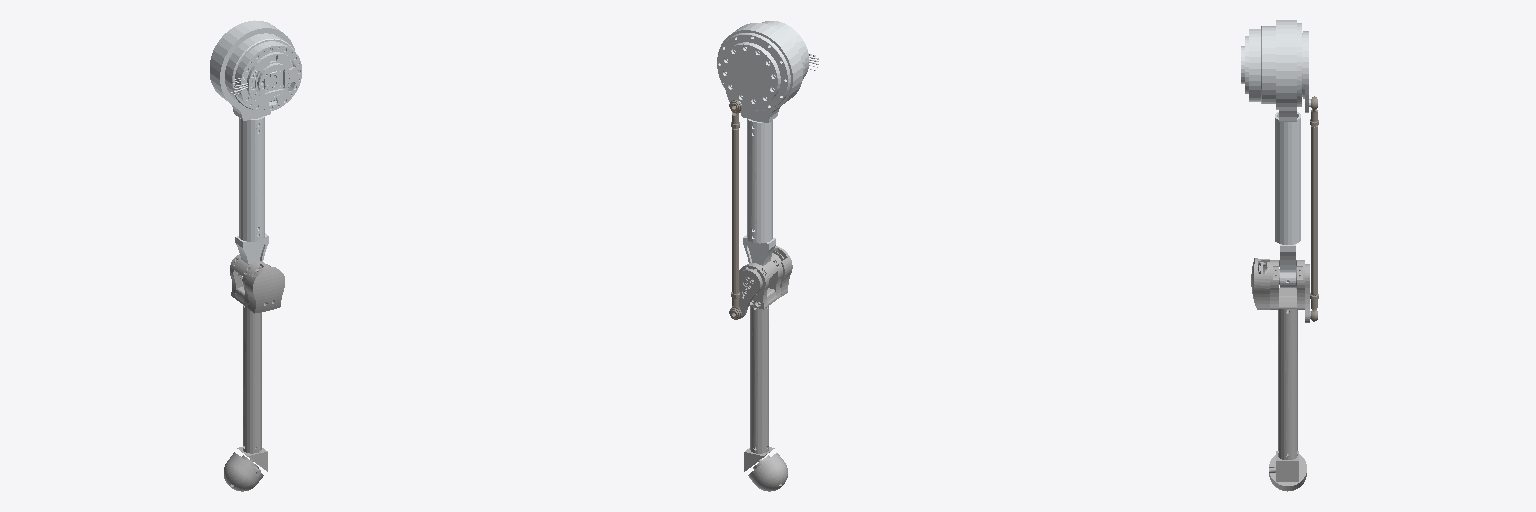
URDF robot description (PONGBOT_LEG):
<robot
  name="PONGBOT_LEG">
  <link
    name="thigh">
    <inertial>
      <origin
        xyz="0 -0.0162 -0.0264"
        rpy="0 0 0" />
      <mass
        value="1.8748" />
      <inertia
        ixx="0.0112"
        ixy="0"
        ixz="0"
        iyy="0.0117"
        iyz="-0.0008"
        izz="0.0017" />
    </inertial>
    <visual>
      <origin
        xyz="0 0 0"
        rpy="0 0 0" />
      <geometry>
        <mesh
          filename="package://PONGBOT_LEG/meshes/thigh.STL" />
      </geometry>
      <material
        name="">
        <color
          rgba="0.89804 0.91765 0.92941 1" />
      </material>
    </visual>
    <collision>
      <origin
        xyz="0 0 0"
        rpy="0 0 0" />
      <geometry>
        <mesh
          filename="package://PONGBOT_LEG/meshes/thigh.STL" />
      </geometry>
    </collision>
  </link>
  <link
    name="rotator1">
    <inertial>
      <origin
        xyz="0.0021 -0.0028 -0.0058"
        rpy="0 0 0" />
      <mass
        value="0.072" />
      <inertia
        ixx="0.0001"
        ixy="0"
        ixz="0"
        iyy="0.0001"
        iyz="0"
        izz="0" />
    </inertial>
    <visual>
      <origin
        xyz="0 0 0"
        rpy="0 0 0" />
      <geometry>
        <mesh
          filename="package://PONGBOT_LEG/meshes/rotator1.STL" />
      </geometry>
      <material
        name="">
        <color
          rgba="0.89804 0.91765 0.92941 1" />
      </material>
    </visual>
    <collision>
      <origin
        xyz="0 0 0"
        rpy="0 0 0" />
      <geometry>
        <mesh
          filename="package://PONGBOT_LEG/meshes/rotator1.STL" />
      </geometry>
    </collision>
  </link>
  <joint
    name="rotator1_joint"
    type="continuous">
    <origin
      xyz="0 0.02765 0"
      rpy="0 -1.1221E-46 0" />
    <parent
      link="thigh" />
    <child
      link="rotator1" />
    <axis
      xyz="0 1 0" />
  </joint>
  <link
    name="rotator2">
    <inertial>
      <origin
        xyz="0 0 -0.1525"
        rpy="0 0 0" />
      <mass
        value="0.2047" />
      <inertia
        ixx="0.0018"
        ixy="0"
        ixz="0"
        iyy="0.0018"
        iyz="0"
        izz="0" />
    </inertial>
    <visual>
      <origin
        xyz="0 0 0"
        rpy="0 0 0" />
      <geometry>
        <mesh
          filename="package://PONGBOT_LEG/meshes/rotator2.STL" />
      </geometry>
      <material
        name="">
        <color
          rgba="0.64706 0.61961 0.58824 1" />
      </material>
    </visual>
    <collision>
      <origin
        xyz="0 0 0"
        rpy="0 0 0" />
      <geometry>
        <mesh
          filename="package://PONGBOT_LEG/meshes/rotator2.STL" />
      </geometry>
    </collision>
  </link>
  <joint
    name="rotator2_joint"
    type="continuous">
    <origin
      xyz="0.017101 0.00685 -0.046985"
      rpy="0 -1.1221E-46 0" />
    <parent
      link="rotator1" />
    <child
      link="rotator2" />
    <axis
      xyz="0 1 0" />
  </joint>
  <link
    name="rotator3">
    <inertial>
      <origin
        xyz="-0.0183 -0.0326 -0.0427"
        rpy="0 0 0" />
      <mass
        value="0.402" />
      <inertia
        ixx="0.0052"
        ixy="0"
        ixz="0.0002"
        iyy="0.0051"
        iyz="0"
        izz="0.0002" />
    </inertial>
    <visual>
      <origin
        xyz="0 0 0"
        rpy="0 0 0" />
      <geometry>
        <mesh
          filename="package://PONGBOT_LEG/meshes/rotator3.STL" />
      </geometry>
      <material
        name="">
        <color
          rgba="0.75294 0.75294 0.75294 1" />
      </material>
    </visual>
    <collision>
      <origin
        xyz="0 0 0"
        rpy="0 0 0" />
      <geometry>
        <mesh
          filename="package://PONGBOT_LEG/meshes/rotator3.STL" />
      </geometry>
    </collision>
  </link>
  <joint
    name="rotator3_joint"
    type="continuous">
    <origin
      xyz="0 0 -0.305"
      rpy="0 -1.1221E-46 0" />
    <parent
      link="rotator2" />
    <child
      link="rotator3" />
    <axis
      xyz="0 1 0" />
  </joint>
</robot>

--- What the picture shows (computed from the rendered views, not written in the file) ---
Views: 3 orthographic renders of the robot side by side, from view 1: azimuth 30°, elevation 25°; view 2: azimuth 150°, elevation 25°; view 3: azimuth 270°, elevation 25°.
Model PONGBOT_LEG with 4 links and 3 joints (3 continuous), rooted at thigh, posed all joints at 0.
Visible links, largest first — view 1: thigh, rotator3; view 2: thigh, rotator3, rotator1, rotator2; view 3: thigh, rotator3, rotator2.
Boxes of the visible links, <box> form: thigh: <box>210,20,301,278</box>; rotator3: <box>224,254,284,491</box>; thigh: <box>717,21,818,280</box>; rotator3: <box>739,246,792,491</box>; rotator1: <box>721,42,780,112</box>; rotator2: <box>729,100,741,319</box>; thigh: <box>1241,20,1302,287</box>; rotator3: <box>1251,258,1310,491</box>; rotator2: <box>1310,96,1318,321</box>.
Size in the robot's own frame: 0.1197 by 0.1008 by 0.6766 metres.
Meshes: 4 distinct files referenced, 4 mesh visuals loaded (4 binary STL).